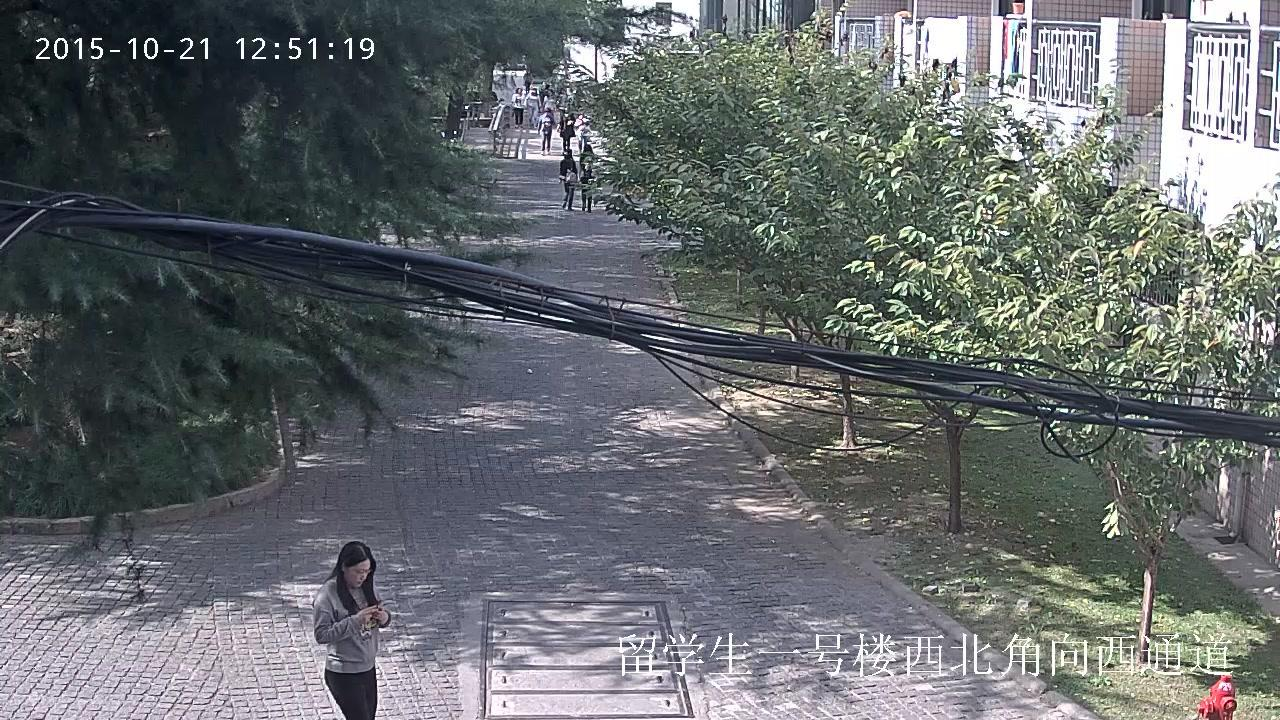face: (345, 558, 370, 587), (563, 150, 567, 156), (517, 88, 521, 93), (532, 89, 536, 93), (563, 116, 566, 120)
